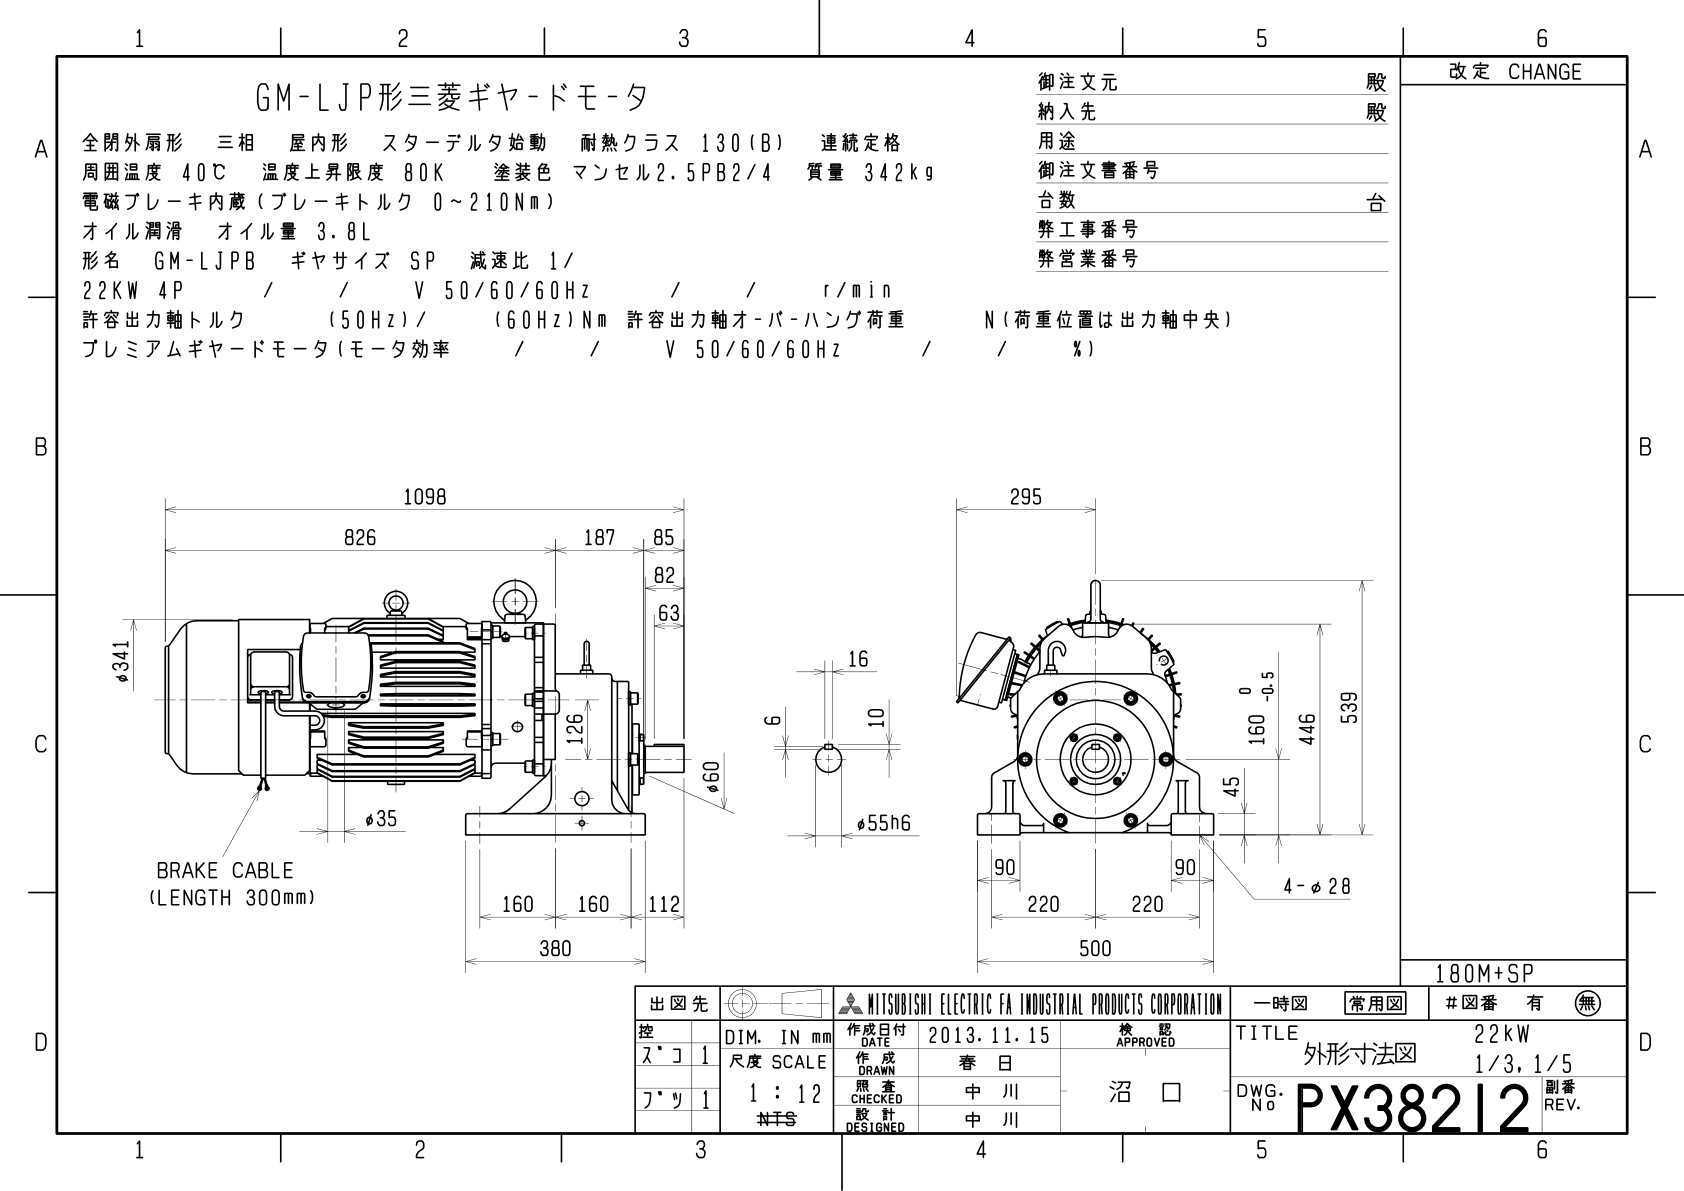GM_LJP_屋内_三相_脚: (97, 445, 1389, 963)
